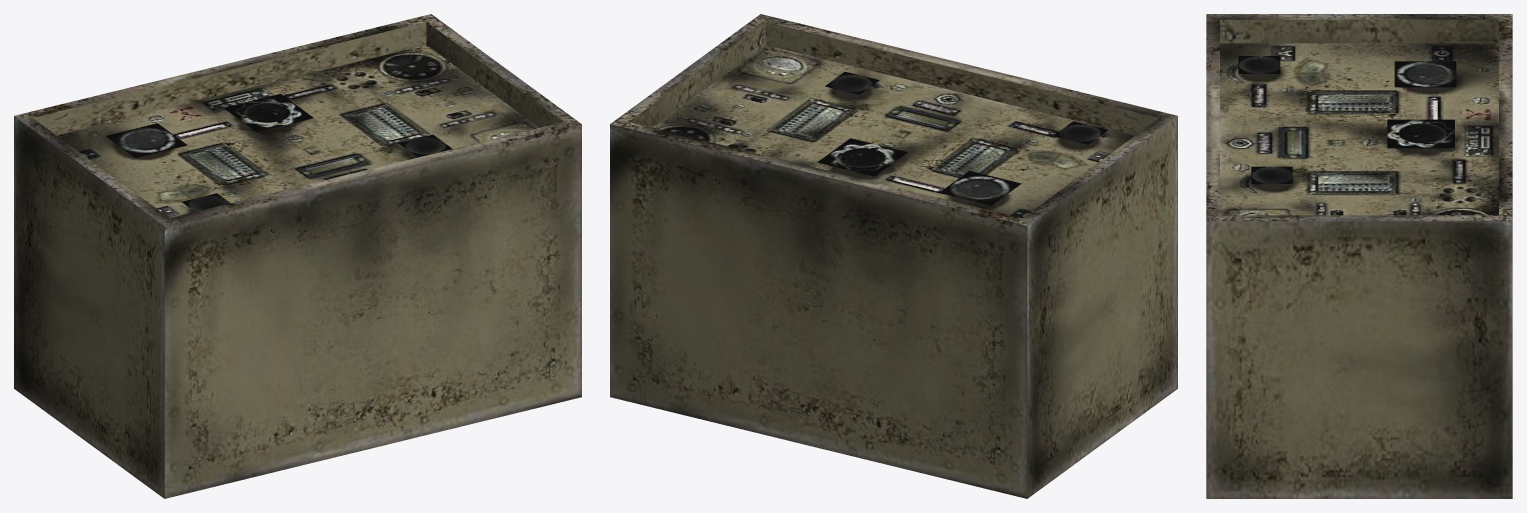
File: military_german_fieldradio_tan_d.glb
3 renders of one model, left to right at view 1: azimuth 30°, elevation 25°; view 2: azimuth 150°, elevation 25°; view 3: azimuth 270°, elevation 25°, orthographic.
Size of the model in its own units: 24.43 by 15.27 by 15.27.
Materials: 2 (2 with a texture image).
